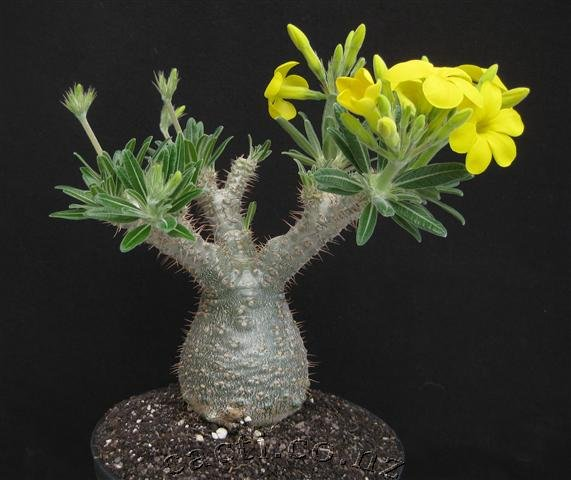Pachypodium rosulatum: (71, 73, 487, 433)
